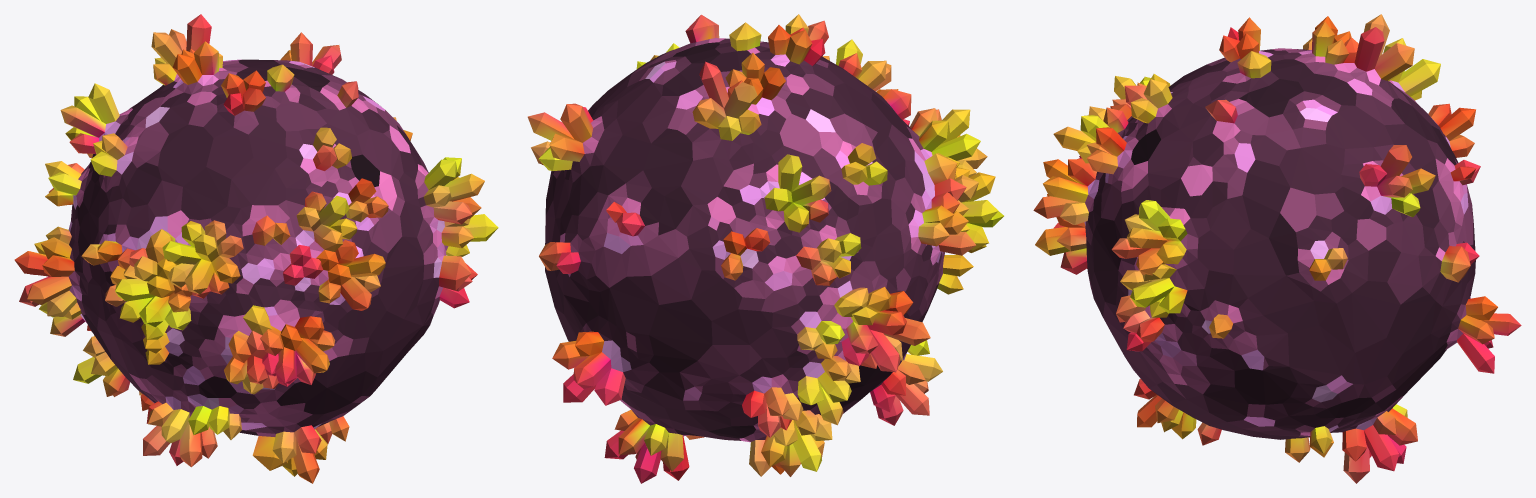
Rendered from Crystal_planet_30.fbx.
3 renders of one model, left to right at view 1: azimuth 30°, elevation 25°; view 2: azimuth 150°, elevation 25°; view 3: azimuth 270°, elevation 25°, orthographic. The views are drawn at different scales.
Parts seen in each view (by area): view 1: file6; view 2: file6; view 3: file6.
Part boxes in pixels (x1,y1,x2,y2): file6: (14,14,498,483); file6: (527,14,1003,483); file6: (1033,14,1521,483).
Bounding box in the file's own units: 2.36 × 2.38 × 2.5.
